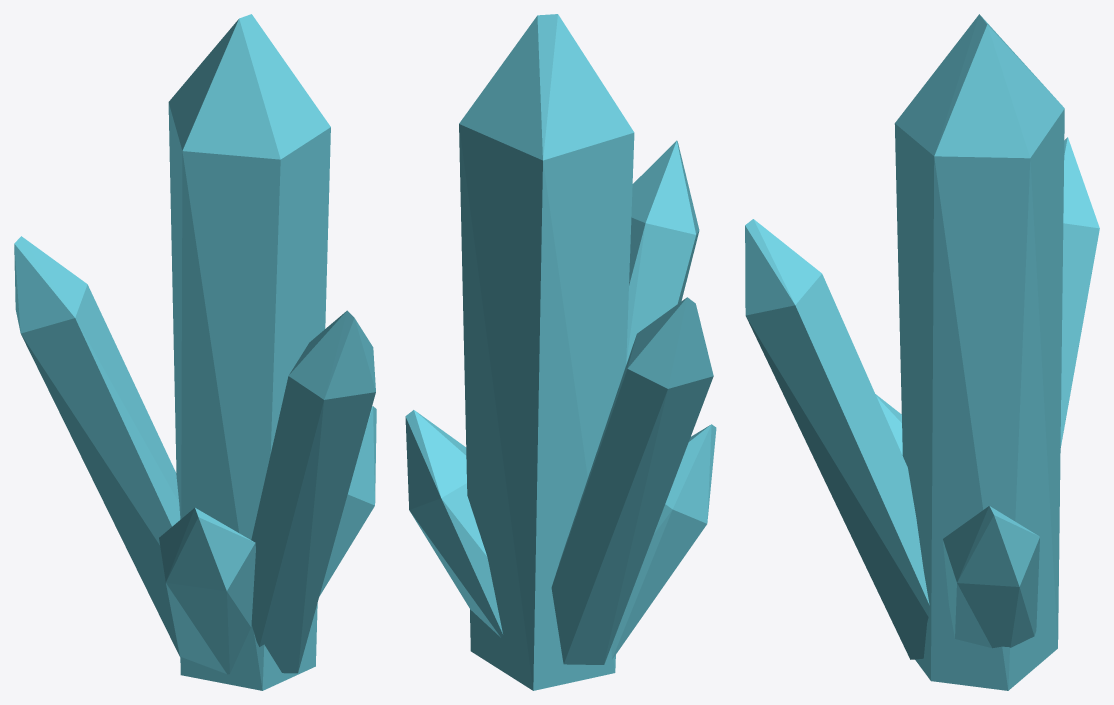
File: tile_ice.fbx
3 renders of one model, left to right at view 1: azimuth 30°, elevation 25°; view 2: azimuth 150°, elevation 25°; view 3: azimuth 270°, elevation 25°, orthographic.
Parts seen in each view (by area): view 1: Cone, Cone.002, Cone.003, Cone.004, Cone.001; view 2: Cone, Cone.003, Cone.001, Cone.002, Cone.004; view 3: Cone, Cone.002, Cone.001, Cone.003, Cone.004.
Part boxes in pixels (bbox=[...]): Cone: bbox=[168, 14, 330, 690]; Cone.002: bbox=[251, 310, 375, 673]; Cone.003: bbox=[14, 236, 180, 656]; Cone.004: bbox=[159, 508, 255, 674]; Cone.001: bbox=[319, 406, 376, 596]; Cone: bbox=[459, 14, 634, 690]; Cone.003: bbox=[551, 297, 713, 664]; Cone.001: bbox=[405, 410, 502, 637]; Cone.002: bbox=[626, 140, 699, 364]; Cone.004: bbox=[611, 424, 716, 658]; Cone: bbox=[894, 14, 1064, 690]; Cone.002: bbox=[745, 219, 929, 659]; Cone.001: bbox=[942, 506, 1039, 648]; Cone.003: bbox=[1060, 137, 1099, 447]; Cone.004: bbox=[875, 394, 902, 454].
Bounding box in the file's own units: 45.83 × 84.88 × 42.54.
